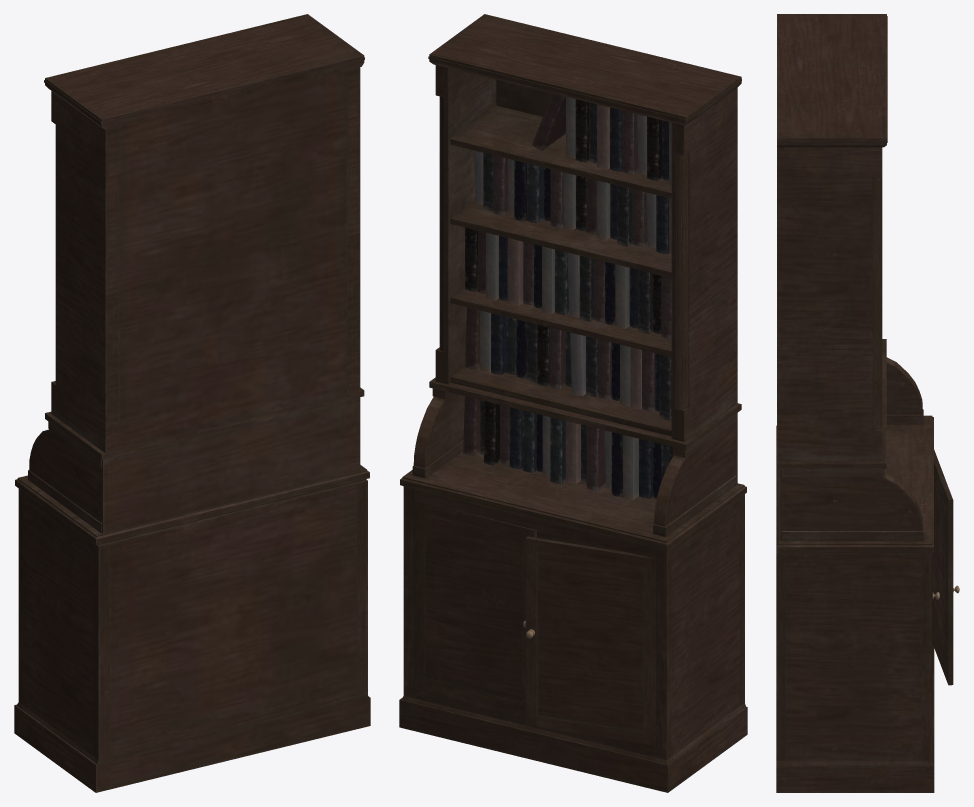
The model's file is bookcase-glazed.glb.
The picture shows the model from 3 angles, left to right: view 1: azimuth 30°, elevation 25°; view 2: azimuth 150°, elevation 25°; view 3: azimuth 270°, elevation 25°; orthographic projection. The views are drawn at different scales.
Parts seen in each view (by area): view 1: bookcase-glazed; view 2: bookcase-glazed; view 3: bookcase-glazed.
Part boxes in pixels (bbox=[...]): bookcase-glazed: bbox=[14, 14, 370, 792]; bookcase-glazed: bbox=[399, 14, 747, 792]; bookcase-glazed: bbox=[776, 14, 959, 792].
Bounding box in the file's own units: 0.993 × 2.32 × 0.5909.
Materials: 1 (1 with a texture image).
